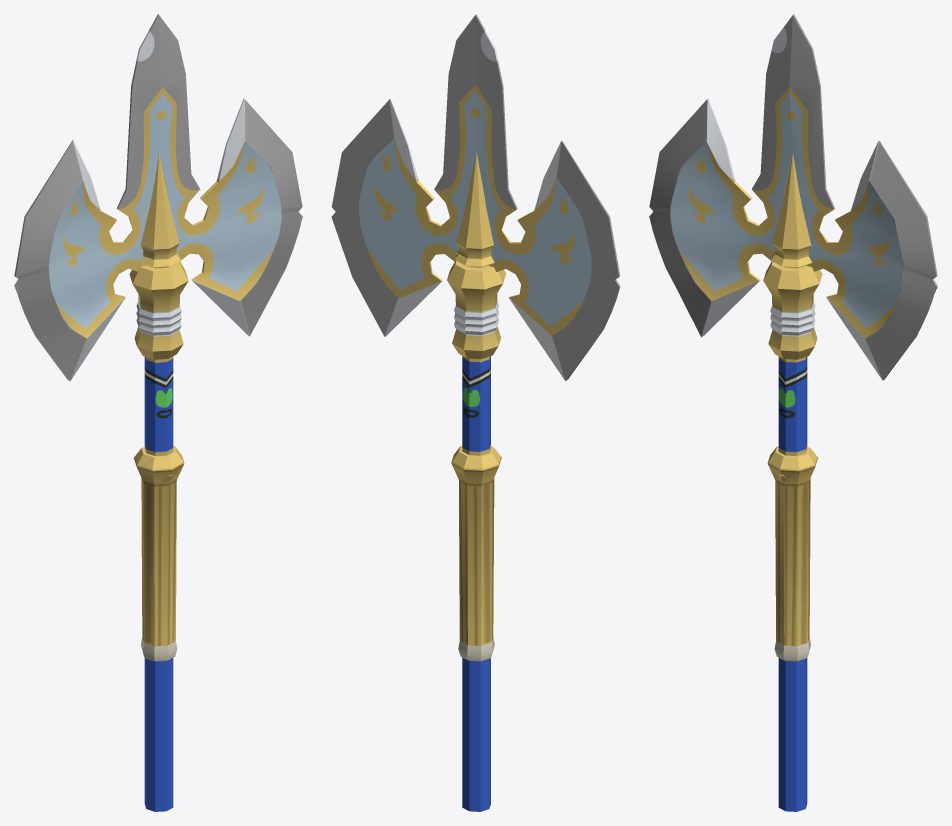
Rendered from Trident.fbx.
3 views of the same model, side by side, from view 1: azimuth 30°, elevation 25°; view 2: azimuth 150°, elevation 25°; view 3: azimuth 330°, elevation 25° (orthographic).
Visible parts, largest first — view 1: 平面, 圓柱體; view 2: 平面, 圓柱體; view 3: 平面, 圓柱體.
Boxes of the visible parts, <box> form: 平面: <box>14,14,302,381</box>; 圓柱體: <box>129,153,188,811</box>; 平面: <box>331,14,620,380</box>; 圓柱體: <box>447,152,506,811</box>; 平面: <box>649,14,937,380</box>; 圓柱體: <box>763,153,822,811</box>.
Bounding box in the file's own units: 68.08 × 179 × 12.59.
